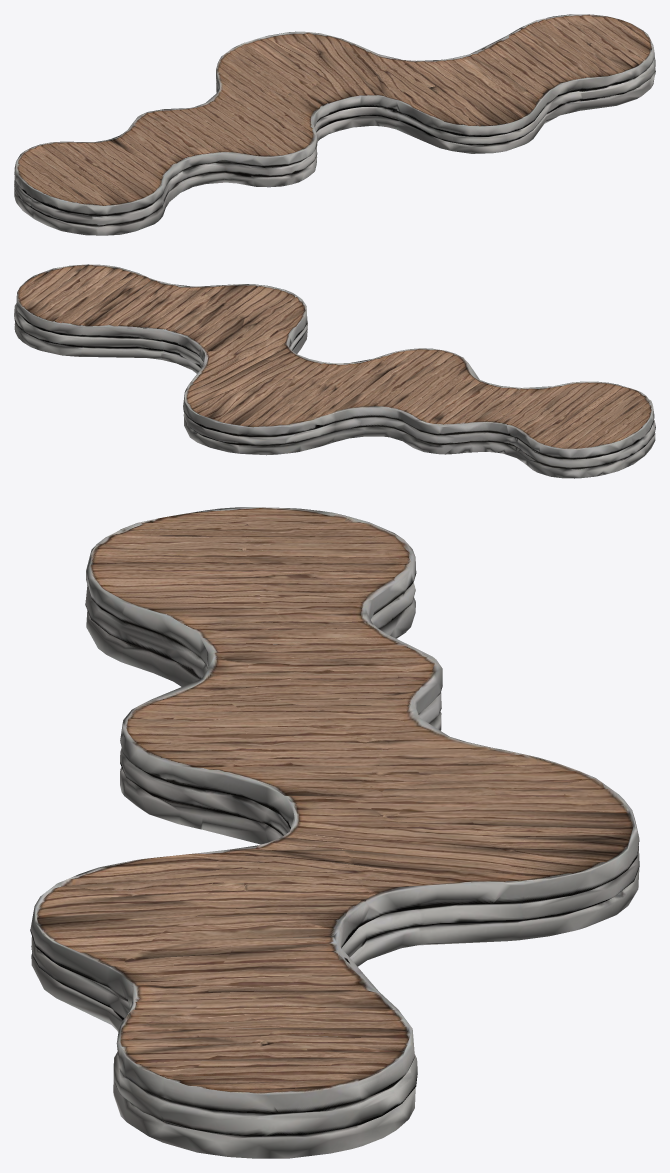
The model's file is deckwave_lod1.glb.
The picture shows the model from 3 angles, top to bottom: view 1: azimuth 30°, elevation 25°; view 2: azimuth 150°, elevation 25°; view 3: azimuth 270°, elevation 25°; orthographic projection. The views are drawn at different scales.
Parts seen in each view (by area): view 1: tripo_node_9ec09905-91dd-470f-8dda-bee24659368a; view 2: tripo_node_9ec09905-91dd-470f-8dda-bee24659368a; view 3: tripo_node_9ec09905-91dd-470f-8dda-bee24659368a.
Part boxes in pixels (x1,y1,x2,y2): tripo_node_9ec09905-91dd-470f-8dda-bee24659368a: [14, 14, 655, 235]; tripo_node_9ec09905-91dd-470f-8dda-bee24659368a: [14, 264, 655, 478]; tripo_node_9ec09905-91dd-470f-8dda-bee24659368a: [30, 507, 639, 1158].
Size of the model in its own units: 9.23 by 0.4968 by 3.97.
1 material, 1 textured.
